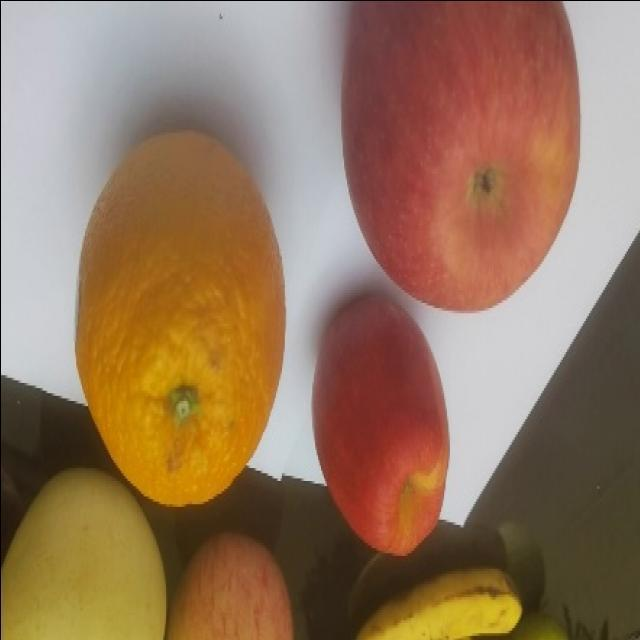Apple: (340, 0, 581, 312), (311, 291, 450, 557), (165, 531, 294, 639)
Orange: (74, 128, 287, 506)
